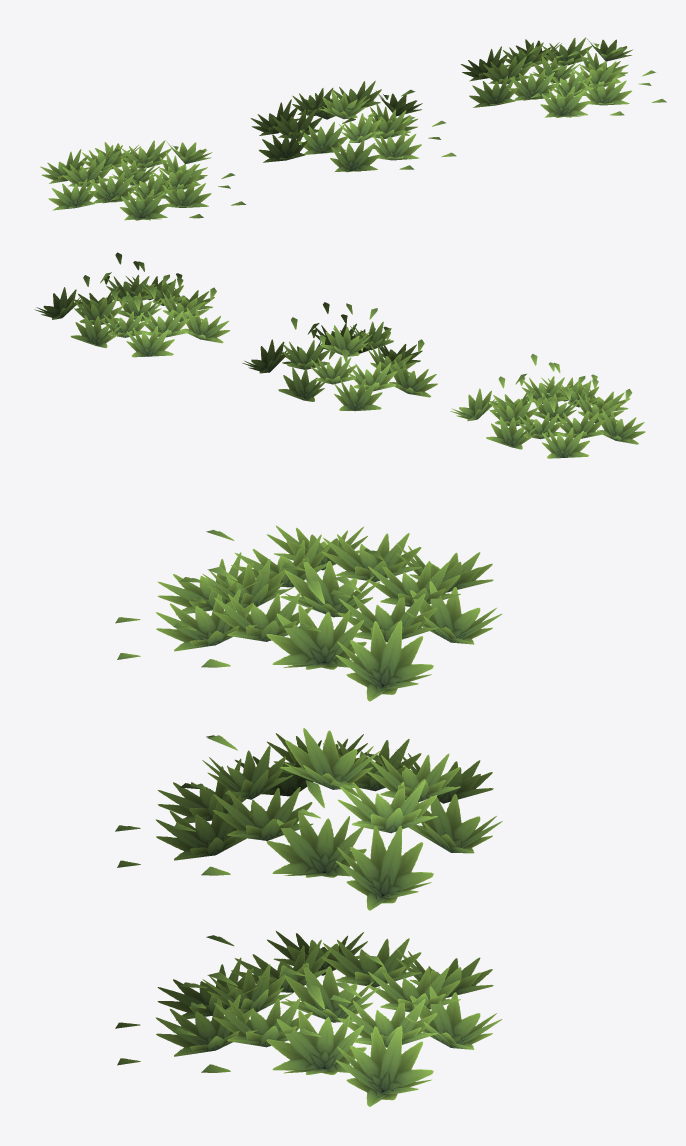
The model's file is moss test v2.fbx.
3 views of the same model, one above another, from view 1: azimuth 30°, elevation 25°; view 2: azimuth 150°, elevation 25°; view 3: azimuth 270°, elevation 25° (orthographic). The views are drawn at different scales.
Visible parts, largest first — view 1: sternmoos_cluster_lite_bumpy, sternmoos_cluster_lite, sternmoos_cluster_lite_altnormal; view 2: sternmoos_cluster_lite_bumpy, sternmoos_cluster_lite, sternmoos_cluster_lite_altnormal; view 3: sternmoos_cluster_lite, sternmoos_cluster_lite_altnormal, sternmoos_cluster_lite_bumpy.
Part boxes in pixels (bbox=[...]): sternmoos_cluster_lite_bumpy: bbox=[250, 80, 456, 172]; sternmoos_cluster_lite: bbox=[40, 140, 245, 220]; sternmoos_cluster_lite_altnormal: bbox=[461, 37, 666, 117]; sternmoos_cluster_lite_bumpy: bbox=[242, 302, 437, 411]; sternmoos_cluster_lite: bbox=[450, 354, 645, 458]; sternmoos_cluster_lite_altnormal: bbox=[34, 252, 230, 357]; sternmoos_cluster_lite: bbox=[115, 525, 502, 701]; sternmoos_cluster_lite_altnormal: bbox=[115, 931, 502, 1106]; sternmoos_cluster_lite_bumpy: bbox=[115, 728, 502, 910].
Bounding box in the file's own units: 630 × 46.99 × 190.
